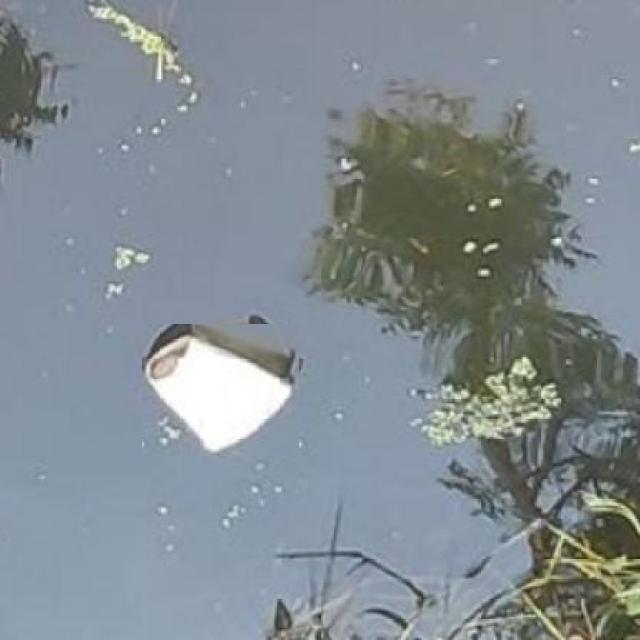Plastic cup: (142, 324, 299, 456)
